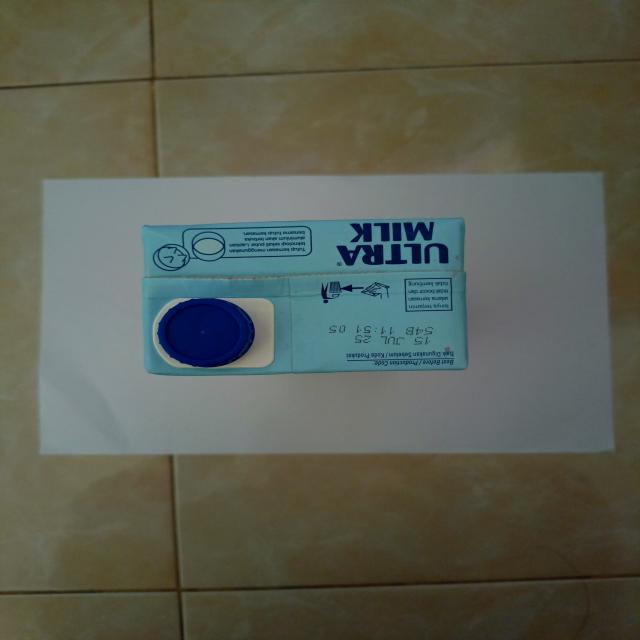indomie-mie-kocok-bandung: (136, 221, 470, 375)
